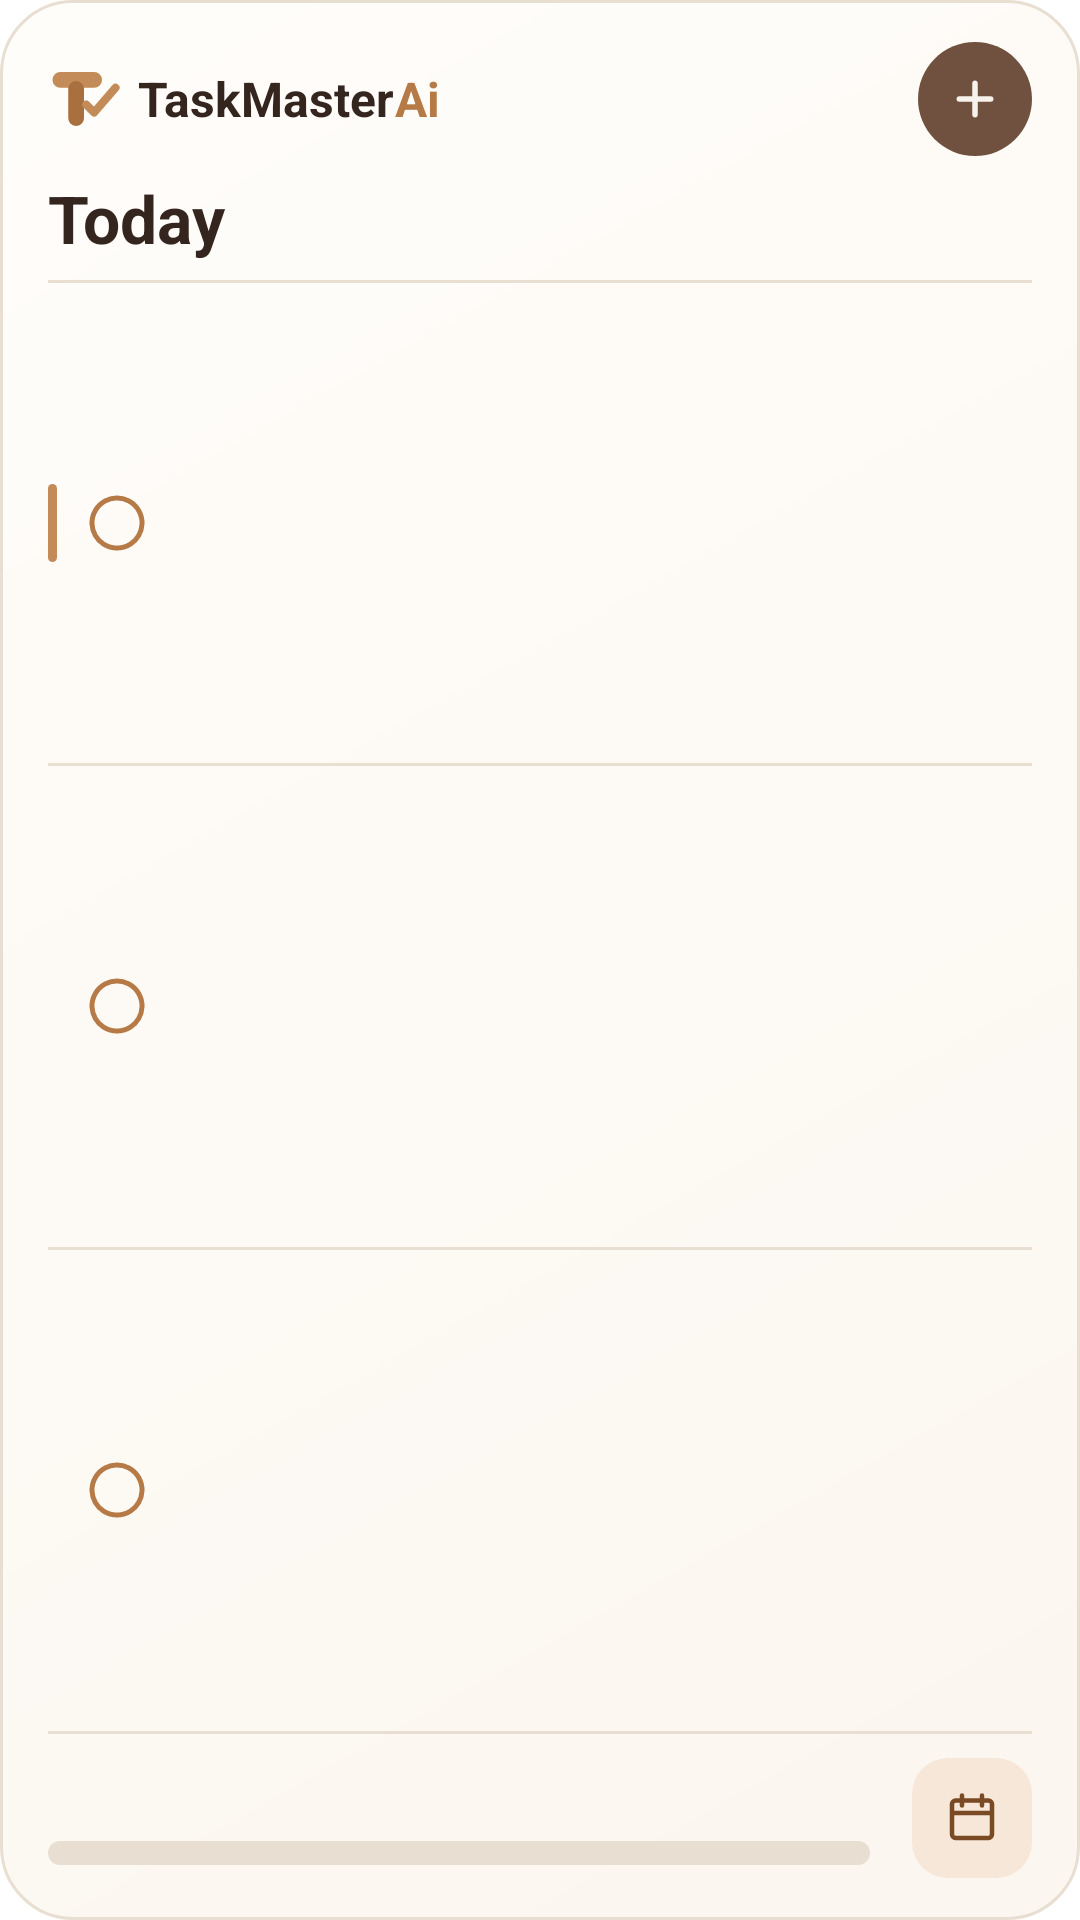

Named icons in this screenshot (1080x1920) and their centers, (x=x, y=y):
widget calendar: (x=972, y=1817)
widget mark: (x=86, y=99)
widget plus: (x=975, y=99)
widget ring: (x=117, y=523), (x=117, y=1006), (x=117, y=1490)
